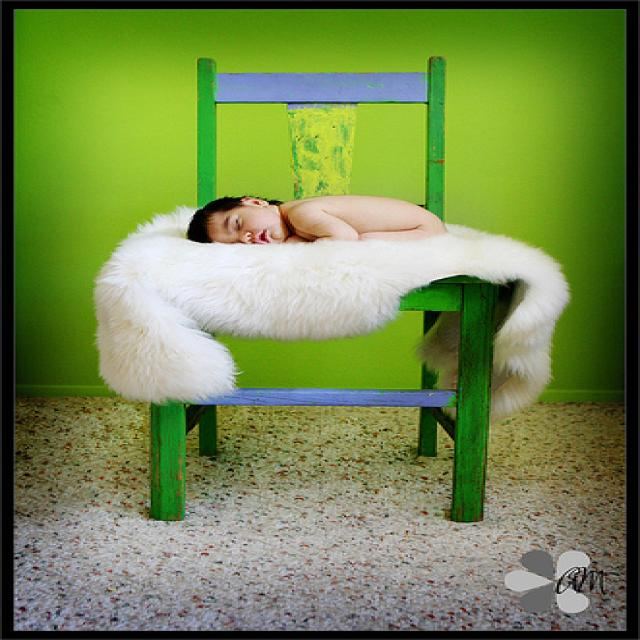chair: (143, 55, 514, 522)
